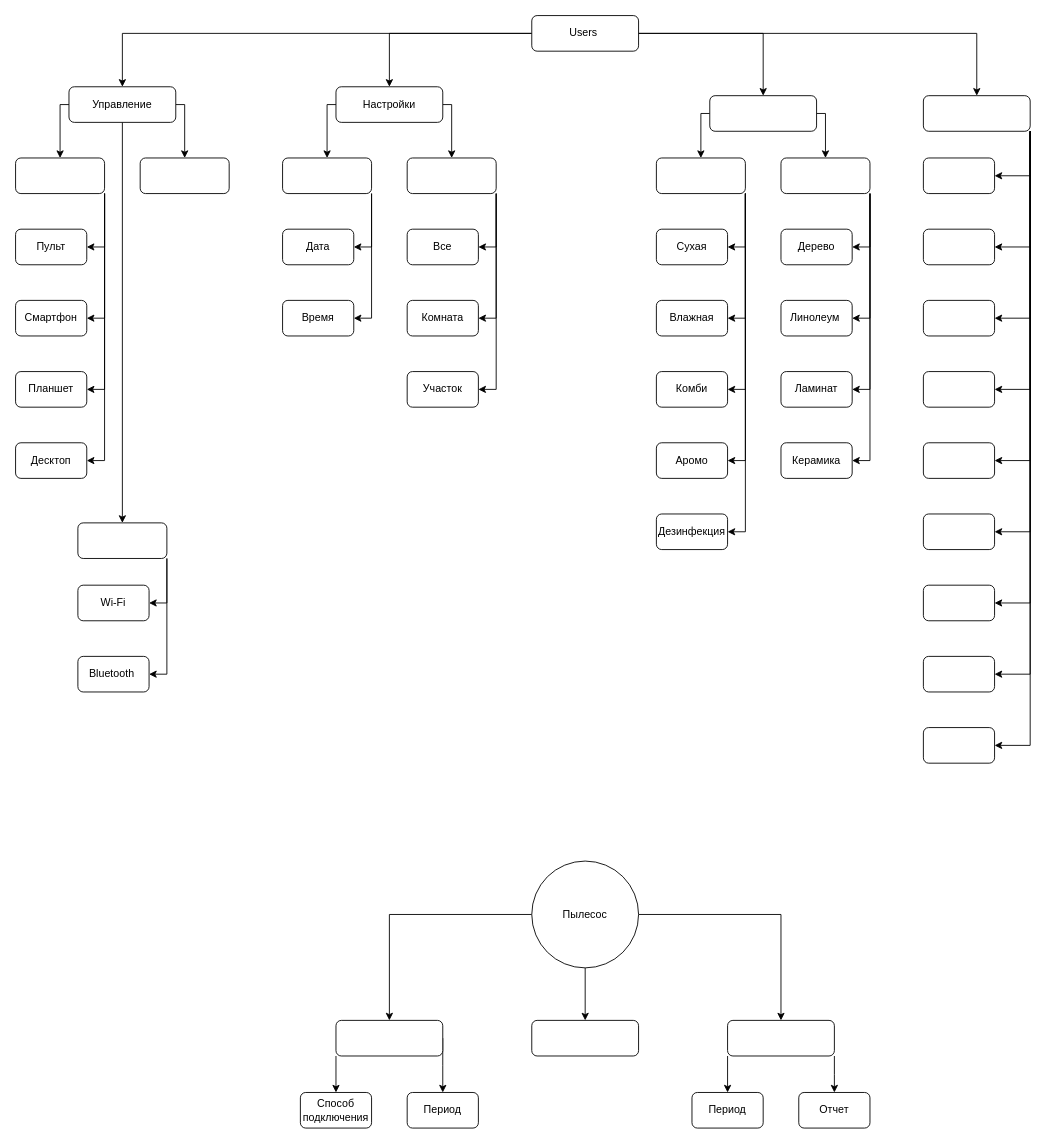
The diagram is 1053 pixels wide and 1144 high, and some of its shapes have lost their labels. The shapes that lost their labels are listed below. From the top down, each one's centre as x and y in pixels, then its label:
(x=763, y=113): Уборка
(x=976, y=113): Обслуживание
(x=60, y=175): Ручное
(x=184, y=175): Авто
(x=327, y=175): Период уборки
(x=451, y=175): Зона уборки
(x=700, y=175): Тип уборки
(x=825, y=175): Тип покрытия
(x=122, y=540): Подключение
(x=389, y=1037): Обновление
(x=585, y=1037): Карта
(x=780, y=1037): Самодиагностика
